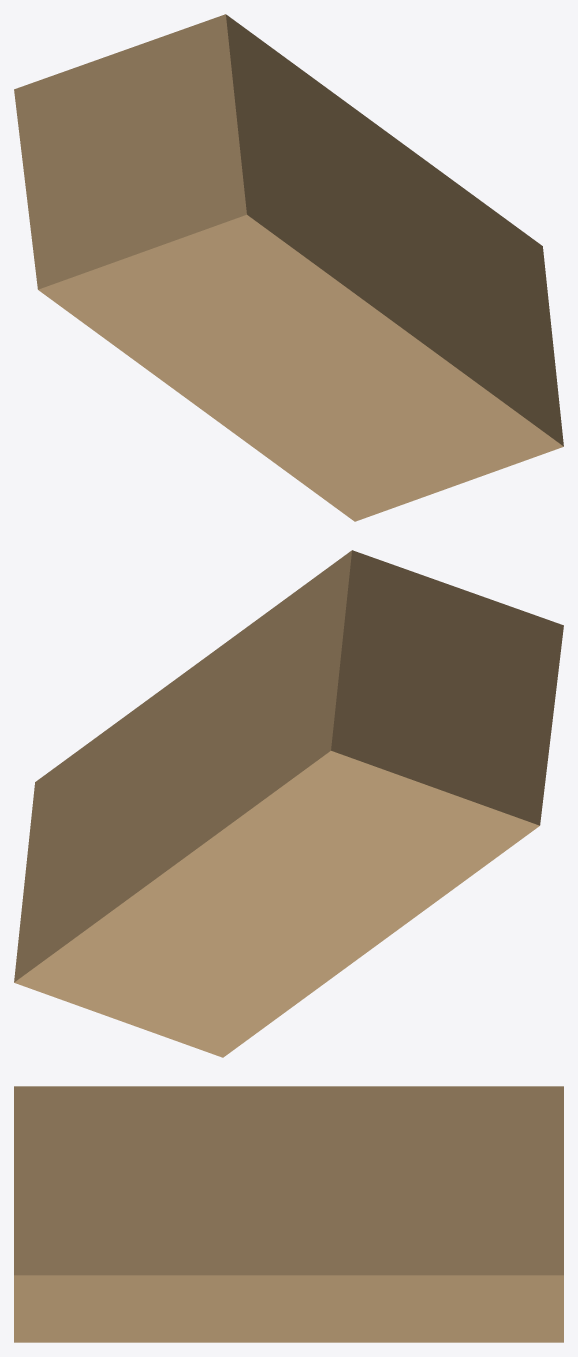
3 views of the same model, one above another, from view 1: azimuth 30°, elevation 25°; view 2: azimuth 150°, elevation 25°; view 3: azimuth 270°, elevation 25° (orthographic). The views are drawn at different scales.
Visible parts, largest first — view 1: 0_0_3_2_0_1_0_1_1_2_3; view 2: 0_0_3_2_0_1_0_1_1_2_3; view 3: 0_0_3_2_0_1_0_1_1_2_3.
Boxes of the visible parts, x1,y1,x2,y2 form: 0_0_3_2_0_1_0_1_1_2_3: (14, 14, 563, 521); 0_0_3_2_0_1_0_1_1_2_3: (14, 550, 563, 1057); 0_0_3_2_0_1_0_1_1_2_3: (14, 1086, 563, 1342).
Size of the model in its own units: 8.91 by 8.4 by 21.
